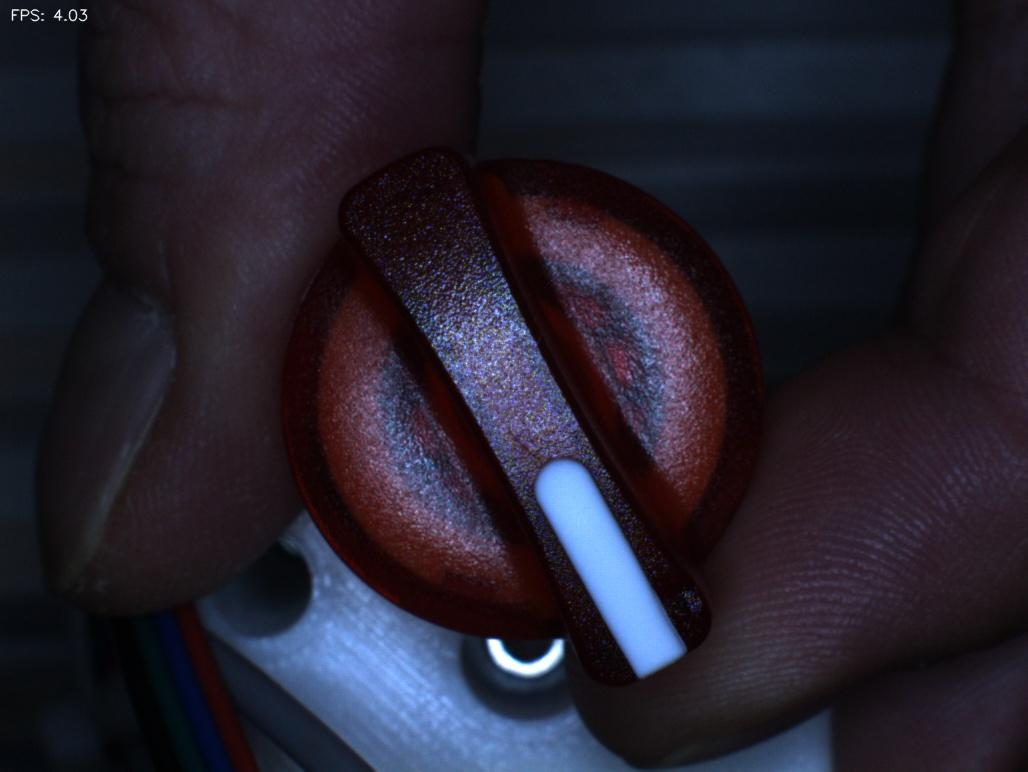Choc: (650, 547, 745, 649)
